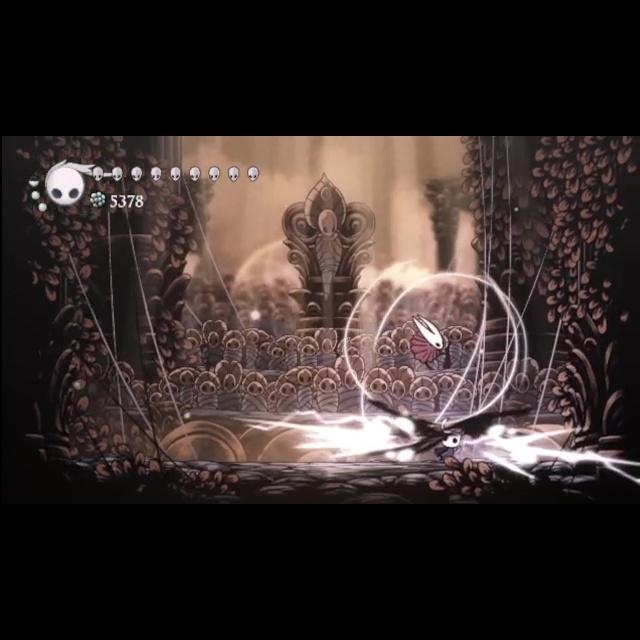EnemyAirAttack: (393, 310, 463, 378)
PlayerDamaged: (429, 415, 469, 465)
